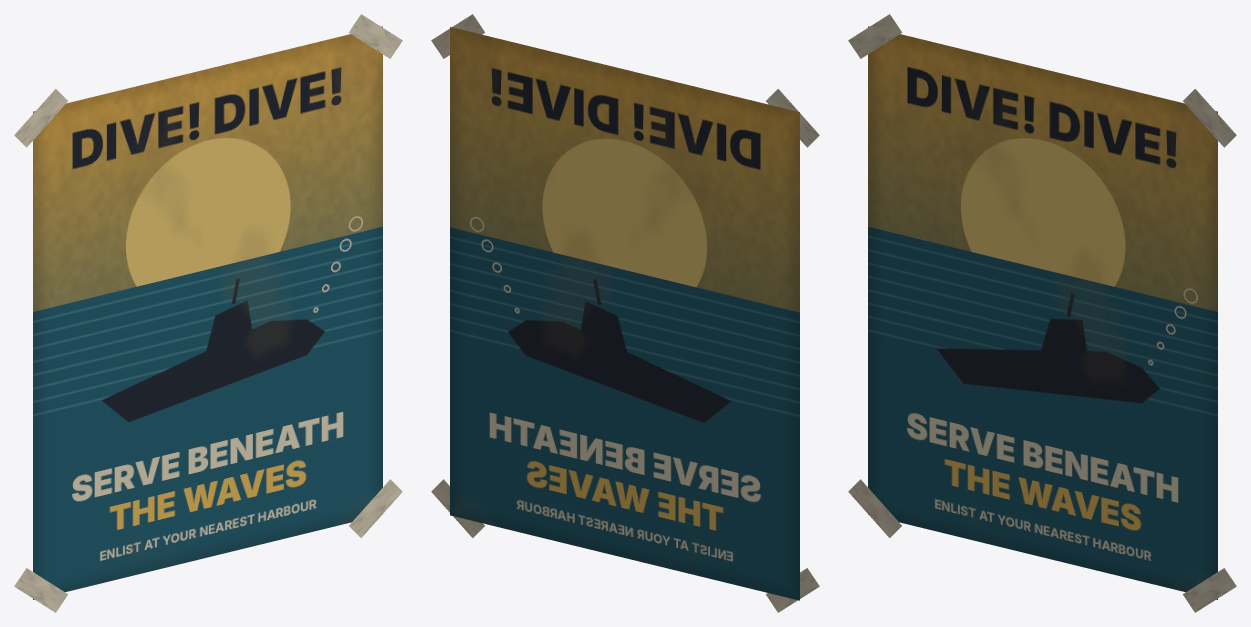
Rendered from Poster_Dive.glb.
3 views of the same model, side by side, from view 1: azimuth 30°, elevation 25°; view 2: azimuth 150°, elevation 25°; view 3: azimuth 330°, elevation 25° (orthographic).
Visible parts, largest first — view 1: Poster_Dive_Body; view 2: Poster_Dive_Body; view 3: Poster_Dive_Body.
Part boxes in pixels (left/top/right/bottom): Poster_Dive_Body: left=14, top=14, right=402, bottom=612; Poster_Dive_Body: left=431, top=14, right=819, bottom=612; Poster_Dive_Body: left=848, top=14, right=1236, bottom=612.
Size of the model in its own units: 0.4997 by 0.6441 by 0.001.
Materials: 2 (2 with a texture image).
